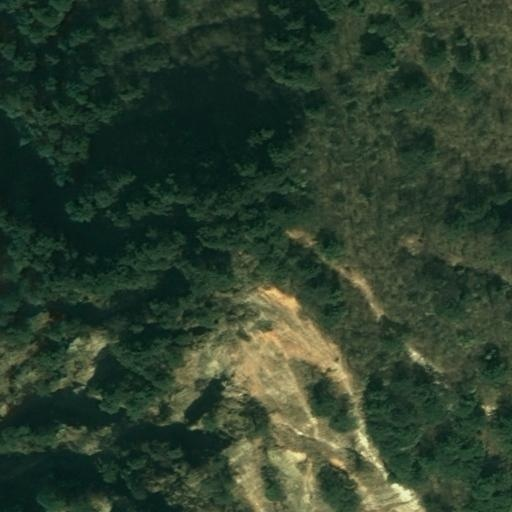landslide: (163, 231, 429, 508)
